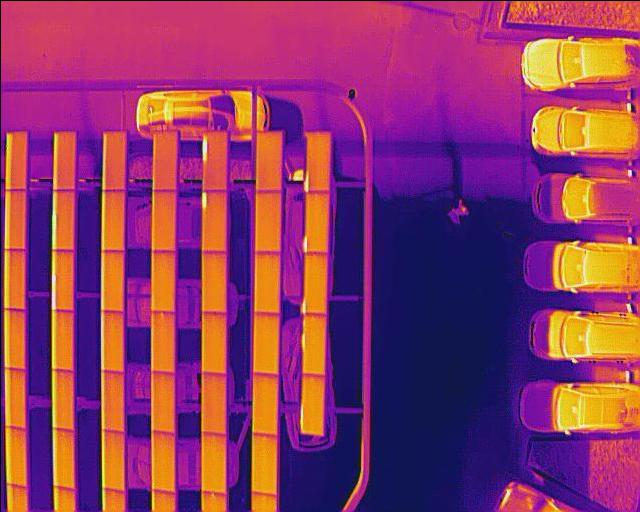No-Anomaly: (251, 433, 277, 495), (252, 372, 277, 436), (200, 372, 225, 436), (200, 431, 225, 495), (252, 311, 277, 374), (201, 311, 226, 373), (201, 251, 226, 313), (253, 250, 278, 312), (254, 190, 279, 252), (150, 372, 175, 433), (255, 131, 280, 191), (151, 189, 175, 251), (100, 369, 124, 430), (150, 311, 174, 372), (150, 431, 174, 492), (150, 252, 174, 312), (100, 250, 123, 312), (51, 369, 74, 430), (101, 310, 124, 371), (101, 430, 124, 491), (3, 308, 25, 369), (4, 426, 26, 487), (102, 190, 124, 250), (52, 429, 74, 489), (153, 131, 175, 190), (4, 248, 25, 309), (102, 131, 124, 189), (4, 367, 25, 427), (51, 310, 72, 370), (4, 190, 25, 248), (5, 130, 25, 190), (53, 132, 74, 189)
Unclassified: (303, 190, 327, 253), (301, 313, 325, 374), (302, 253, 326, 314), (201, 190, 225, 251), (299, 374, 323, 434), (304, 131, 328, 191), (51, 250, 74, 312), (202, 132, 226, 189), (51, 189, 73, 250)
